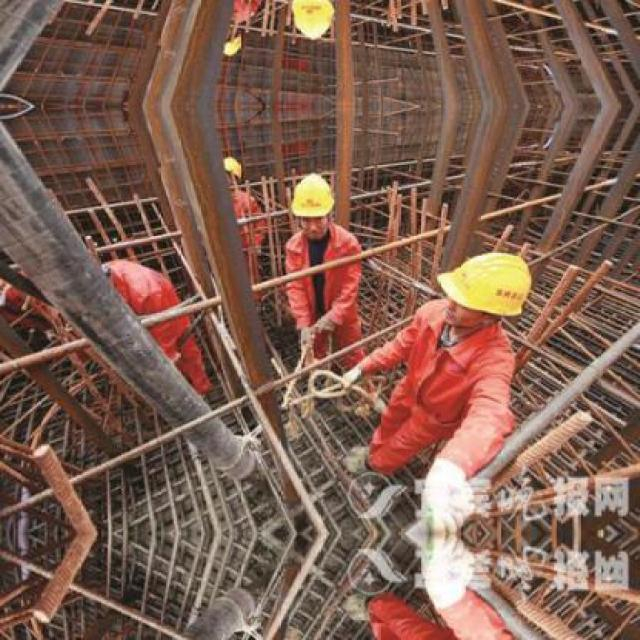helmet: (440, 246, 535, 329), (288, 168, 337, 241), (288, 0, 338, 45), (212, 153, 243, 188), (212, 24, 243, 59)
